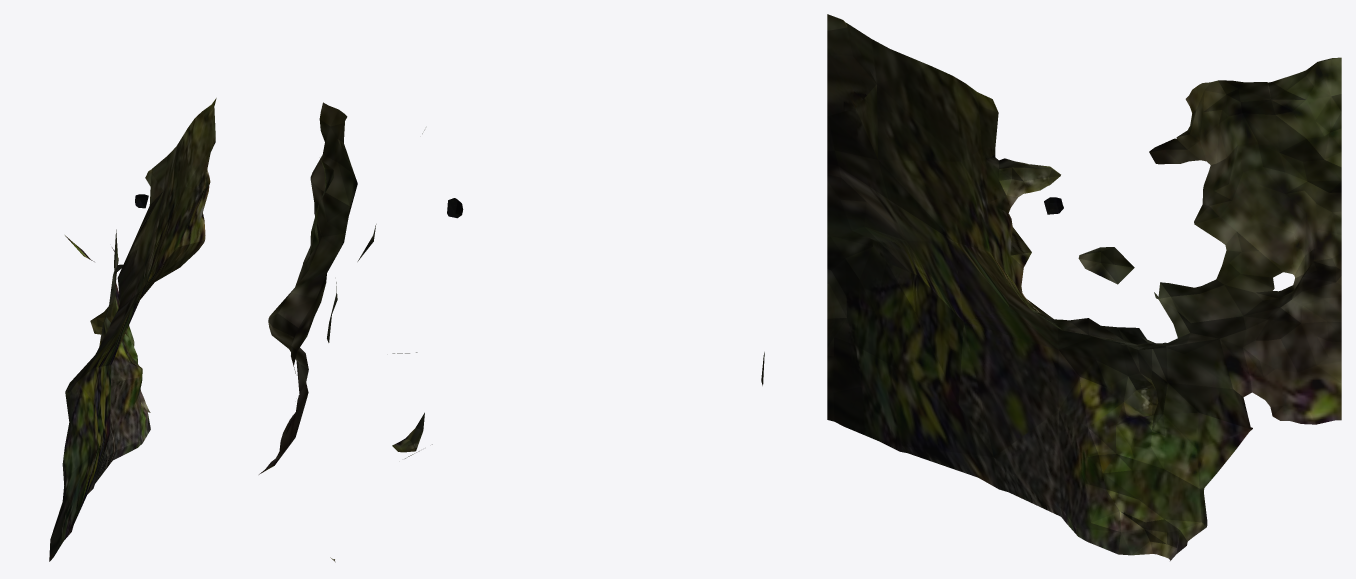
3 views of the same model, side by side, from view 1: azimuth 30°, elevation 25°; view 2: azimuth 150°, elevation 25°; view 3: azimuth 270°, elevation 25° (orthographic). The views are drawn at different scales.
Size of the model in its own units: 0.5591 by 0.8373 by 0.8373.
3 materials, 3 textured.
